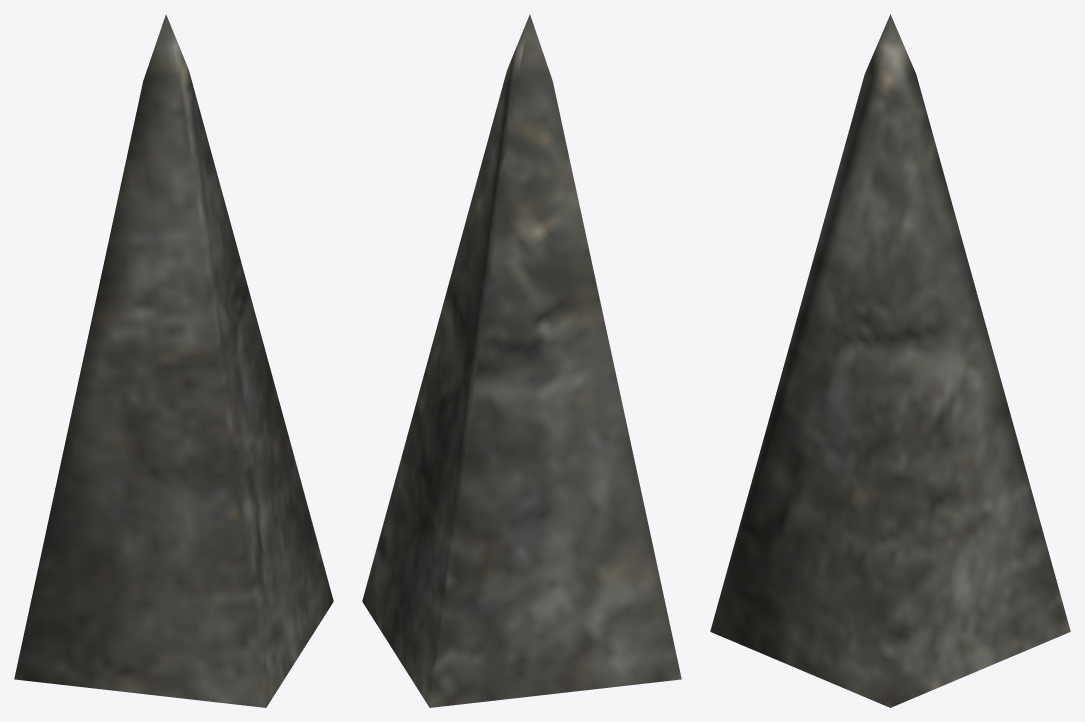
The model's file is Stal3_LOD1.fbx.
The picture shows the model from 3 angles, left to right: view 1: azimuth 30°, elevation 25°; view 2: azimuth 150°, elevation 25°; view 3: azimuth 270°, elevation 25°; orthographic projection. The views are drawn at different scales.
Parts seen in each view (by area): view 1: pCylinder29; view 2: pCylinder29; view 3: pCylinder29.
Boxes of the visible parts, x1,y1,x2,y2 form: pCylinder29: [14, 14, 333, 707]; pCylinder29: [362, 14, 681, 707]; pCylinder29: [710, 14, 1070, 707].
Bounding box in the file's own units: 0.7845 × 1.47 × 0.7845.
